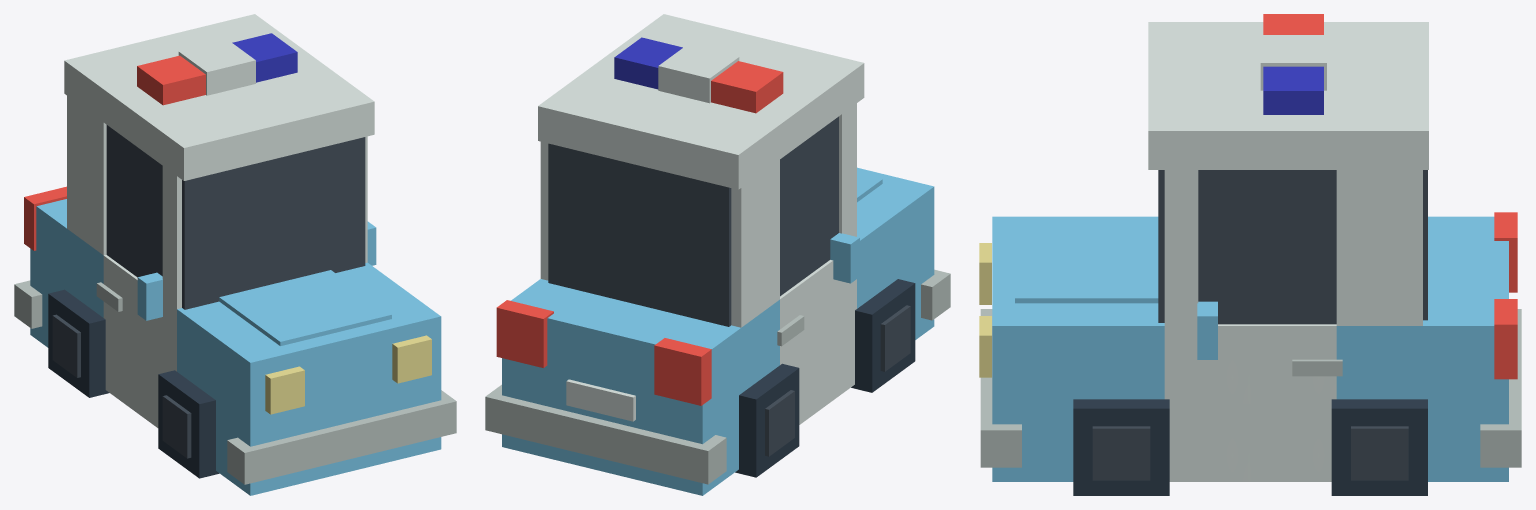
Rendered from Car_copVariant.fbx.
3 views of the same model, side by side, from view 1: azimuth 30°, elevation 25°; view 2: azimuth 150°, elevation 25°; view 3: azimuth 270°, elevation 25° (orthographic). The views are drawn at different scales.
Parts seen in each view (by area): view 1: CopCar; view 2: CopCar; view 3: CopCar.
Boxes of the visible parts, bbox=[...] form: CopCar: bbox=[14, 14, 456, 495]; CopCar: bbox=[485, 14, 950, 495]; CopCar: bbox=[979, 14, 1521, 495].
Size of the model in its own units: 3.68 by 4.91 by 6.3.
